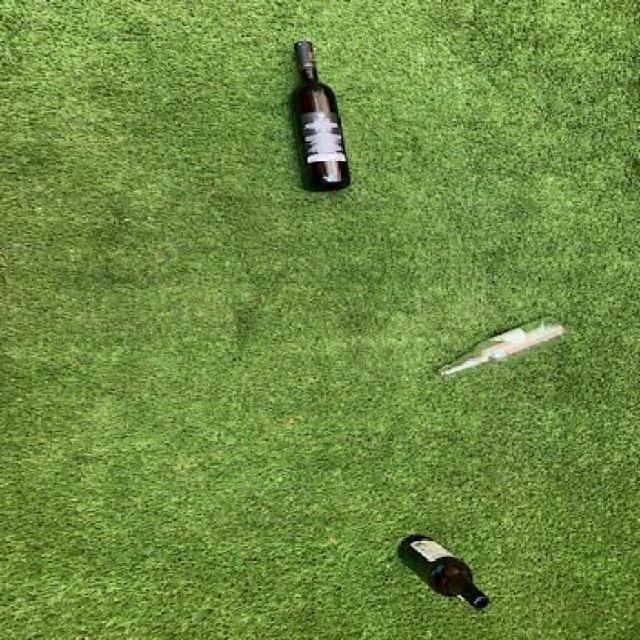trash: (281, 39, 356, 192), (433, 316, 572, 382), (392, 534, 491, 612)
